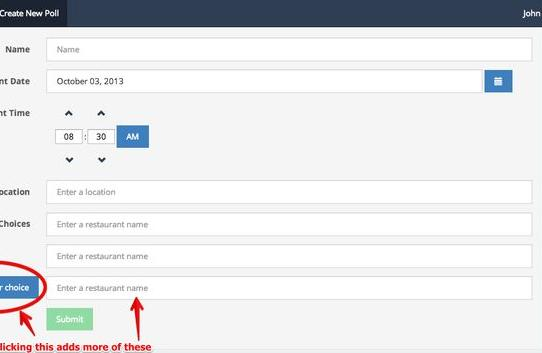button: (45, 307, 97, 332)
field: (43, 210, 535, 238), (44, 242, 533, 270), (43, 36, 535, 63), (43, 178, 535, 205), (46, 275, 535, 301), (43, 68, 484, 94), (54, 128, 83, 145), (86, 129, 115, 145)
field_with_label: (3, 34, 537, 65)
